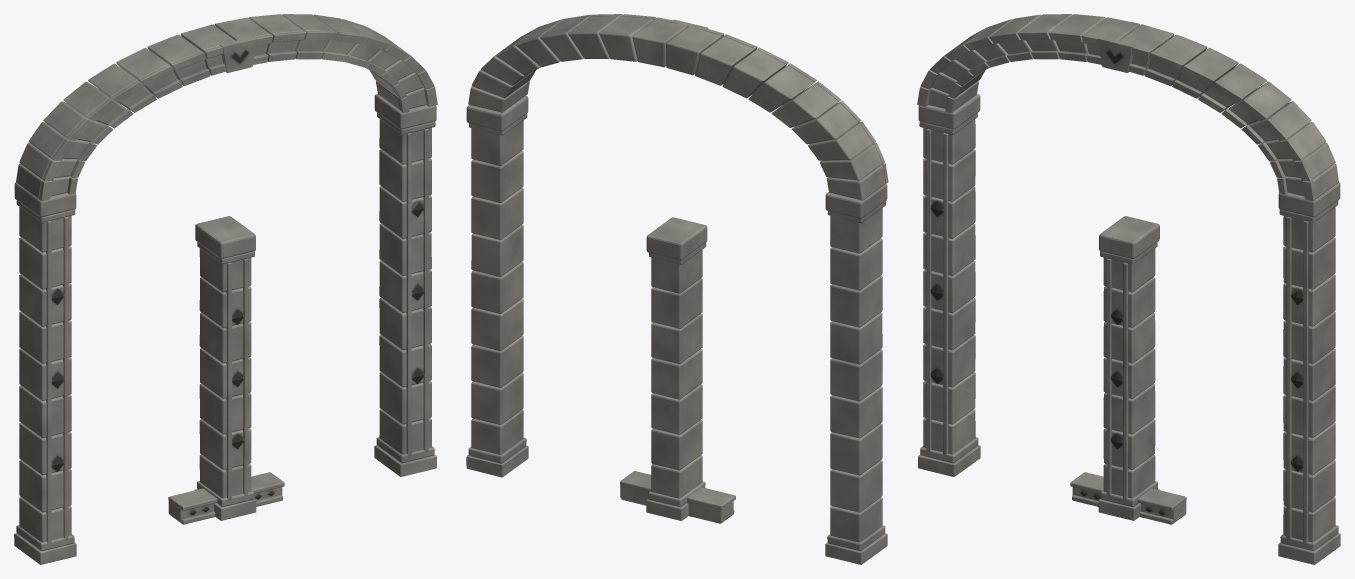
The model's file is architecture-kit-baked.glb.
3 renders of one model, left to right at view 1: azimuth 30°, elevation 25°; view 2: azimuth 150°, elevation 25°; view 3: azimuth 330°, elevation 25°, orthographic.
Parts seen in each view (by area): view 1: Arch_LOD0, Pillar_LOD0, Trim_LOD0; view 2: Arch_LOD0, Pillar_LOD0, Trim_LOD0; view 3: Arch_LOD0, Pillar_LOD0, Trim_LOD0.
Part boxes in pixels (<box>): Arch_LOD0: <box>14,14,437,564</box>; Pillar_LOD0: <box>195,216,256,520</box>; Trim_LOD0: <box>168,472,284,524</box>; Arch_LOD0: <box>466,14,888,564</box>; Pillar_LOD0: <box>646,217,707,520</box>; Trim_LOD0: <box>620,471,735,523</box>; Arch_LOD0: <box>917,14,1340,564</box>; Pillar_LOD0: <box>1098,216,1159,520</box>; Trim_LOD0: <box>1070,472,1186,524</box>.
Size of what is drawn, in the model's own units: 7.76 by 8.88 by 0.949.
1 material, 1 textured.
